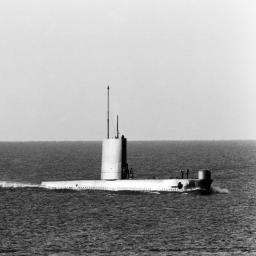submarine: (27, 83, 213, 188)
